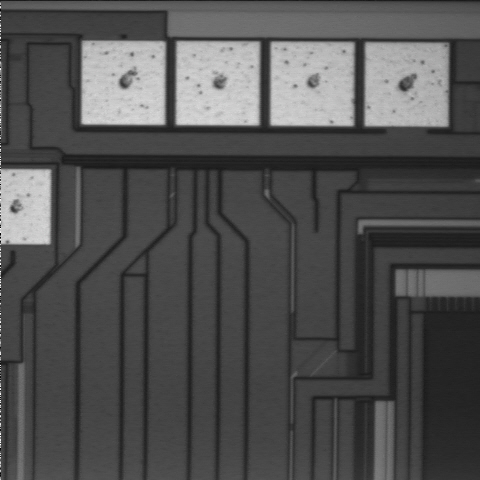pad: (82, 42, 165, 125), (176, 42, 259, 125), (271, 43, 353, 125), (366, 44, 446, 126)
